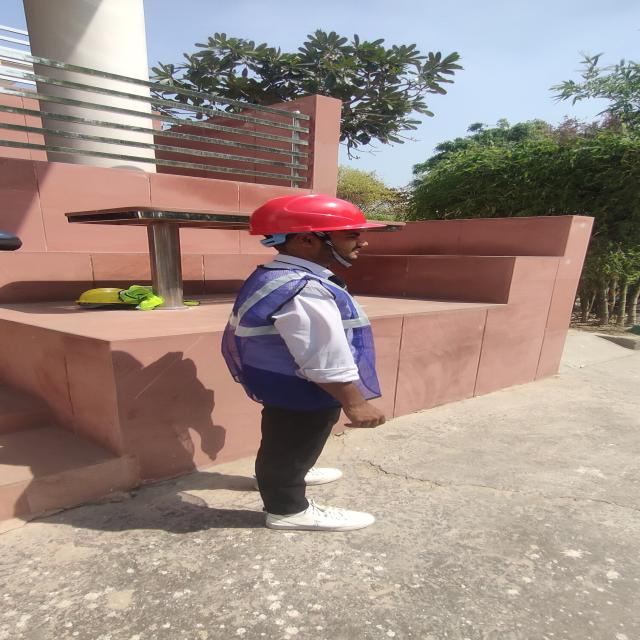safe: (222, 195, 386, 530)
